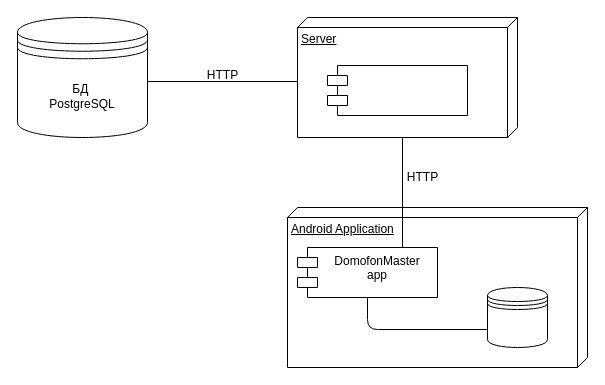
The diagram is 605 pixels wide and 385 high, and some of its shapes have lost their labels. The centre of each missing label's shape, as x and y in pixels:
"DomofonMaster back-end" belongs at point (397, 90).
"SQLite" belongs at point (517, 317).
